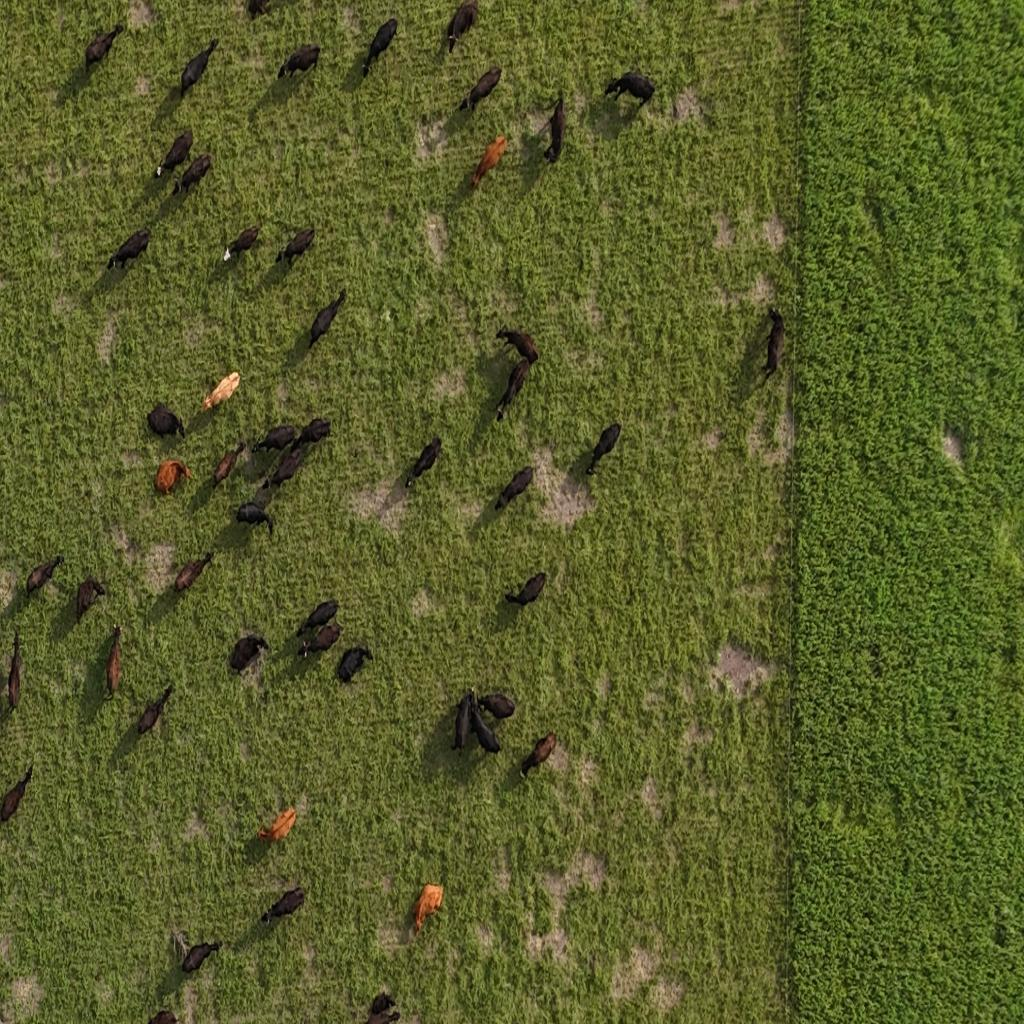cow: (600, 69, 655, 124), (178, 39, 218, 101), (133, 674, 173, 734), (308, 288, 346, 349), (495, 357, 530, 423), (362, 18, 399, 78), (467, 694, 501, 755), (460, 64, 502, 113), (405, 435, 443, 489), (584, 424, 620, 480), (155, 129, 193, 181), (266, 444, 308, 491), (85, 23, 124, 73), (1, 764, 33, 824), (211, 439, 246, 493), (471, 138, 506, 192), (761, 305, 786, 380), (542, 90, 566, 166), (107, 229, 150, 271), (446, 0, 478, 55), (173, 153, 211, 199), (520, 733, 556, 781), (504, 571, 545, 613), (174, 551, 215, 593), (262, 886, 305, 926), (298, 622, 342, 661), (496, 327, 540, 366), (26, 555, 63, 601), (275, 226, 315, 268), (200, 371, 240, 413), (229, 634, 269, 676), (413, 882, 444, 936), (495, 468, 533, 512), (147, 402, 187, 442), (154, 459, 196, 497), (296, 599, 339, 636), (290, 417, 332, 454), (451, 690, 475, 754), (336, 646, 374, 686), (280, 43, 320, 81), (235, 500, 275, 538), (76, 574, 107, 622), (105, 623, 124, 701), (223, 225, 262, 262), (257, 808, 296, 844), (181, 940, 221, 975), (254, 425, 298, 456), (6, 630, 22, 712), (478, 691, 518, 722), (365, 992, 401, 1024), (141, 999, 184, 1024), (247, 0, 272, 19)
